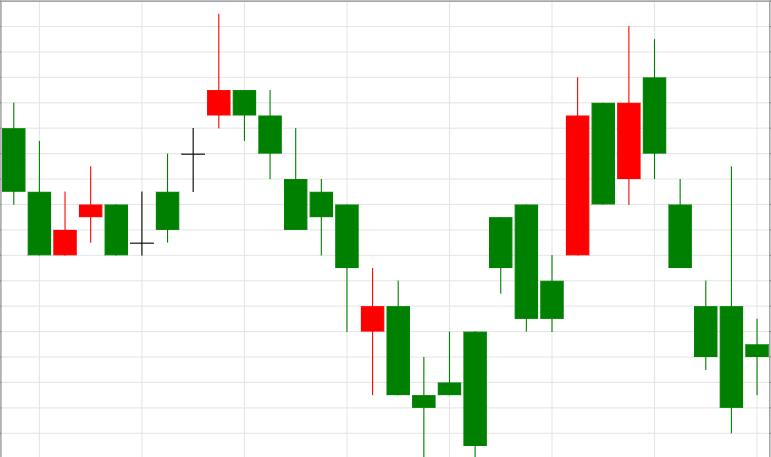shooting_star_fall: (105, 13, 230, 256)
